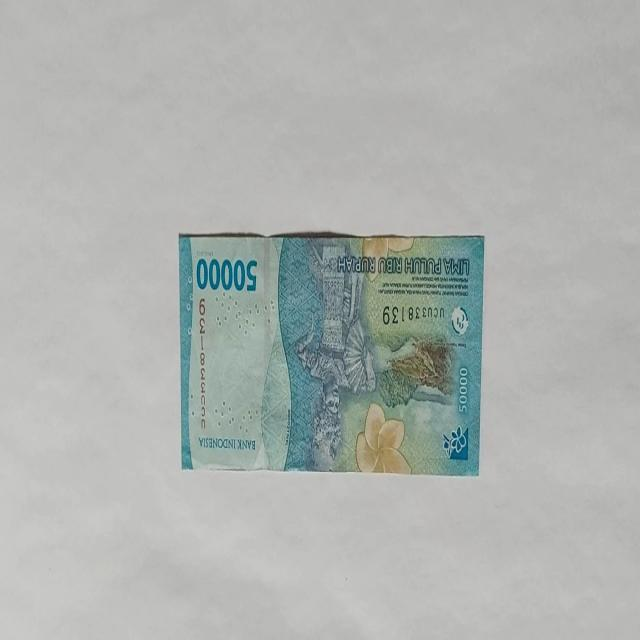lima puluh ribu rupiah: (178, 232, 485, 474), (194, 254, 258, 294)
